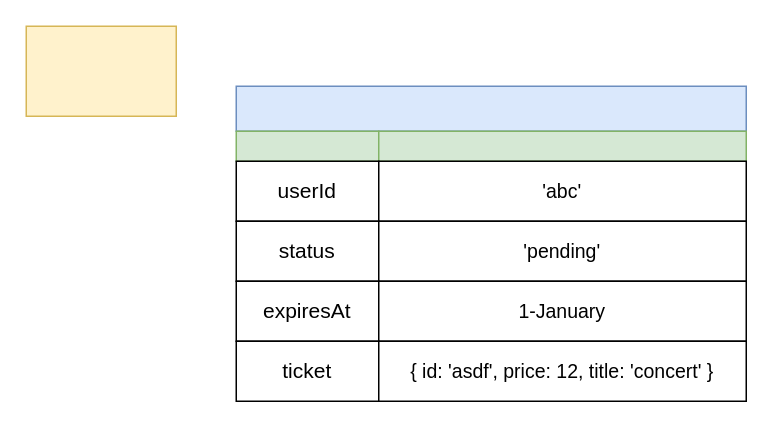
Some shapes in this 773 by 428 pixel diagram are drawn without their labels. Each missing label, with the box of its shape:
Option #1 - Embedding: (25, 25, 176, 116)
Order: (235, 85, 746, 131)
Prop: (235, 130, 379, 161)
Value: (377, 130, 746, 161)
